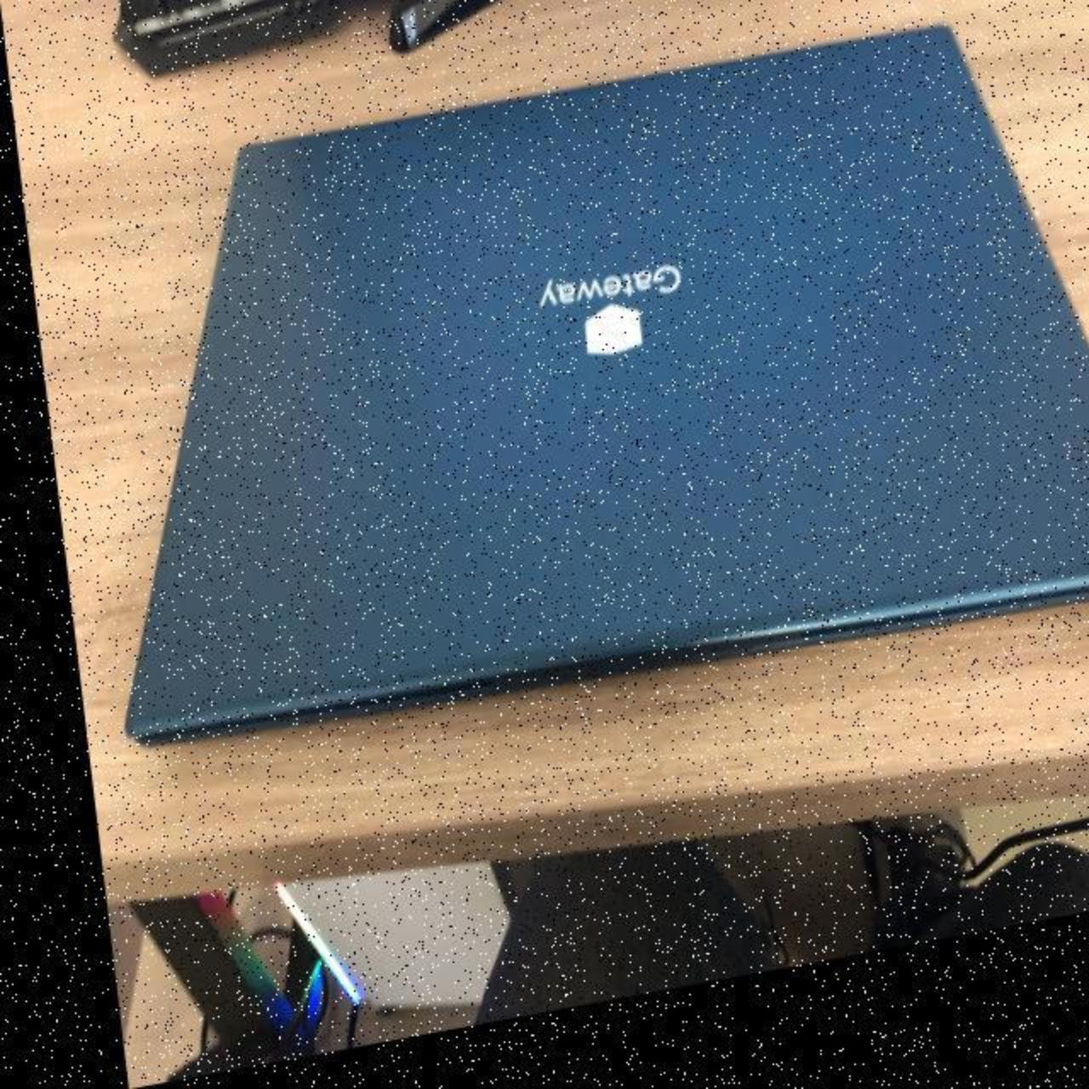laptop: (54, 20, 1089, 793)
